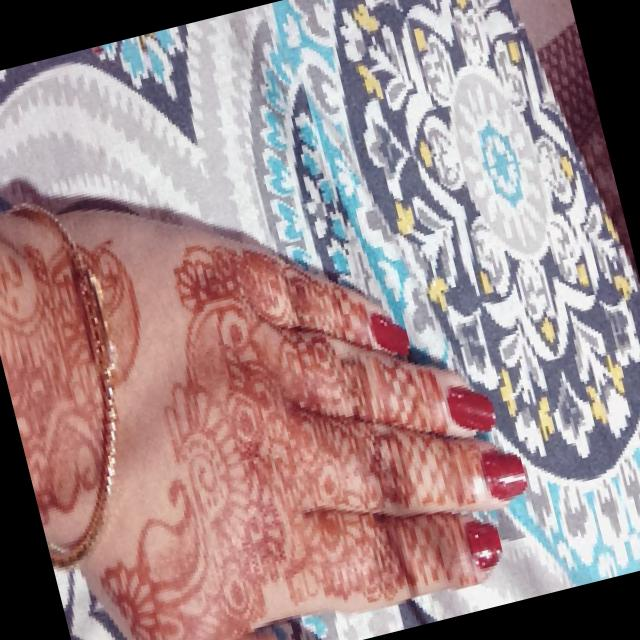Nail: (480, 449, 526, 501), (446, 386, 495, 432), (463, 520, 501, 571), (369, 313, 409, 356)
